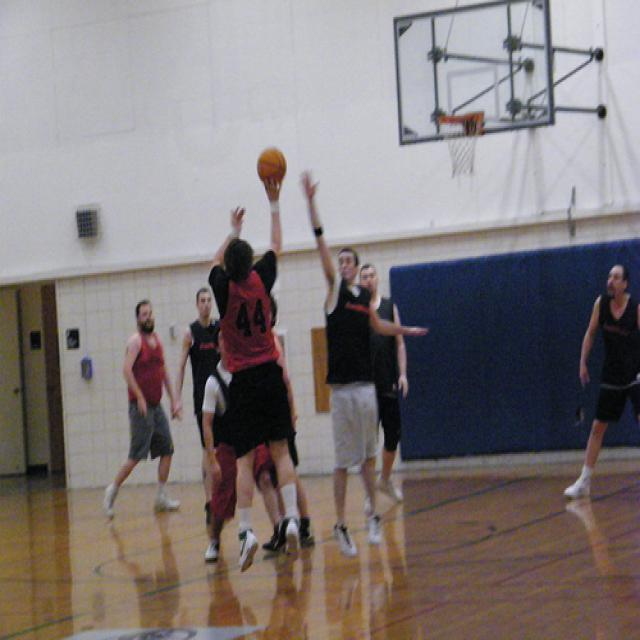basketball: (256, 145, 287, 186)
rim: (436, 112, 478, 124)
